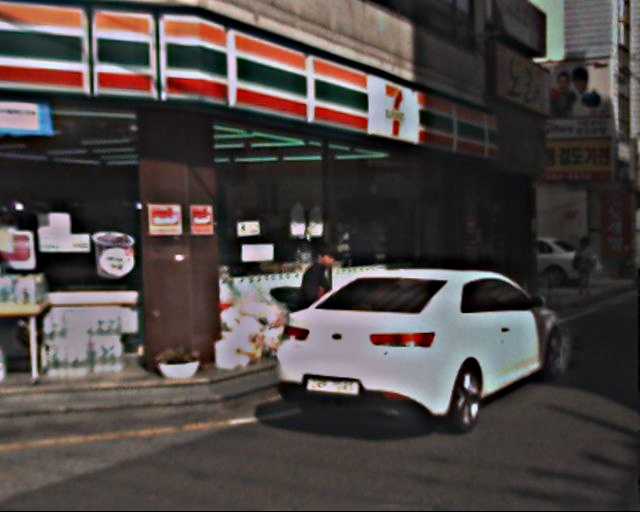person: (302, 230, 359, 370), (573, 233, 610, 302)
